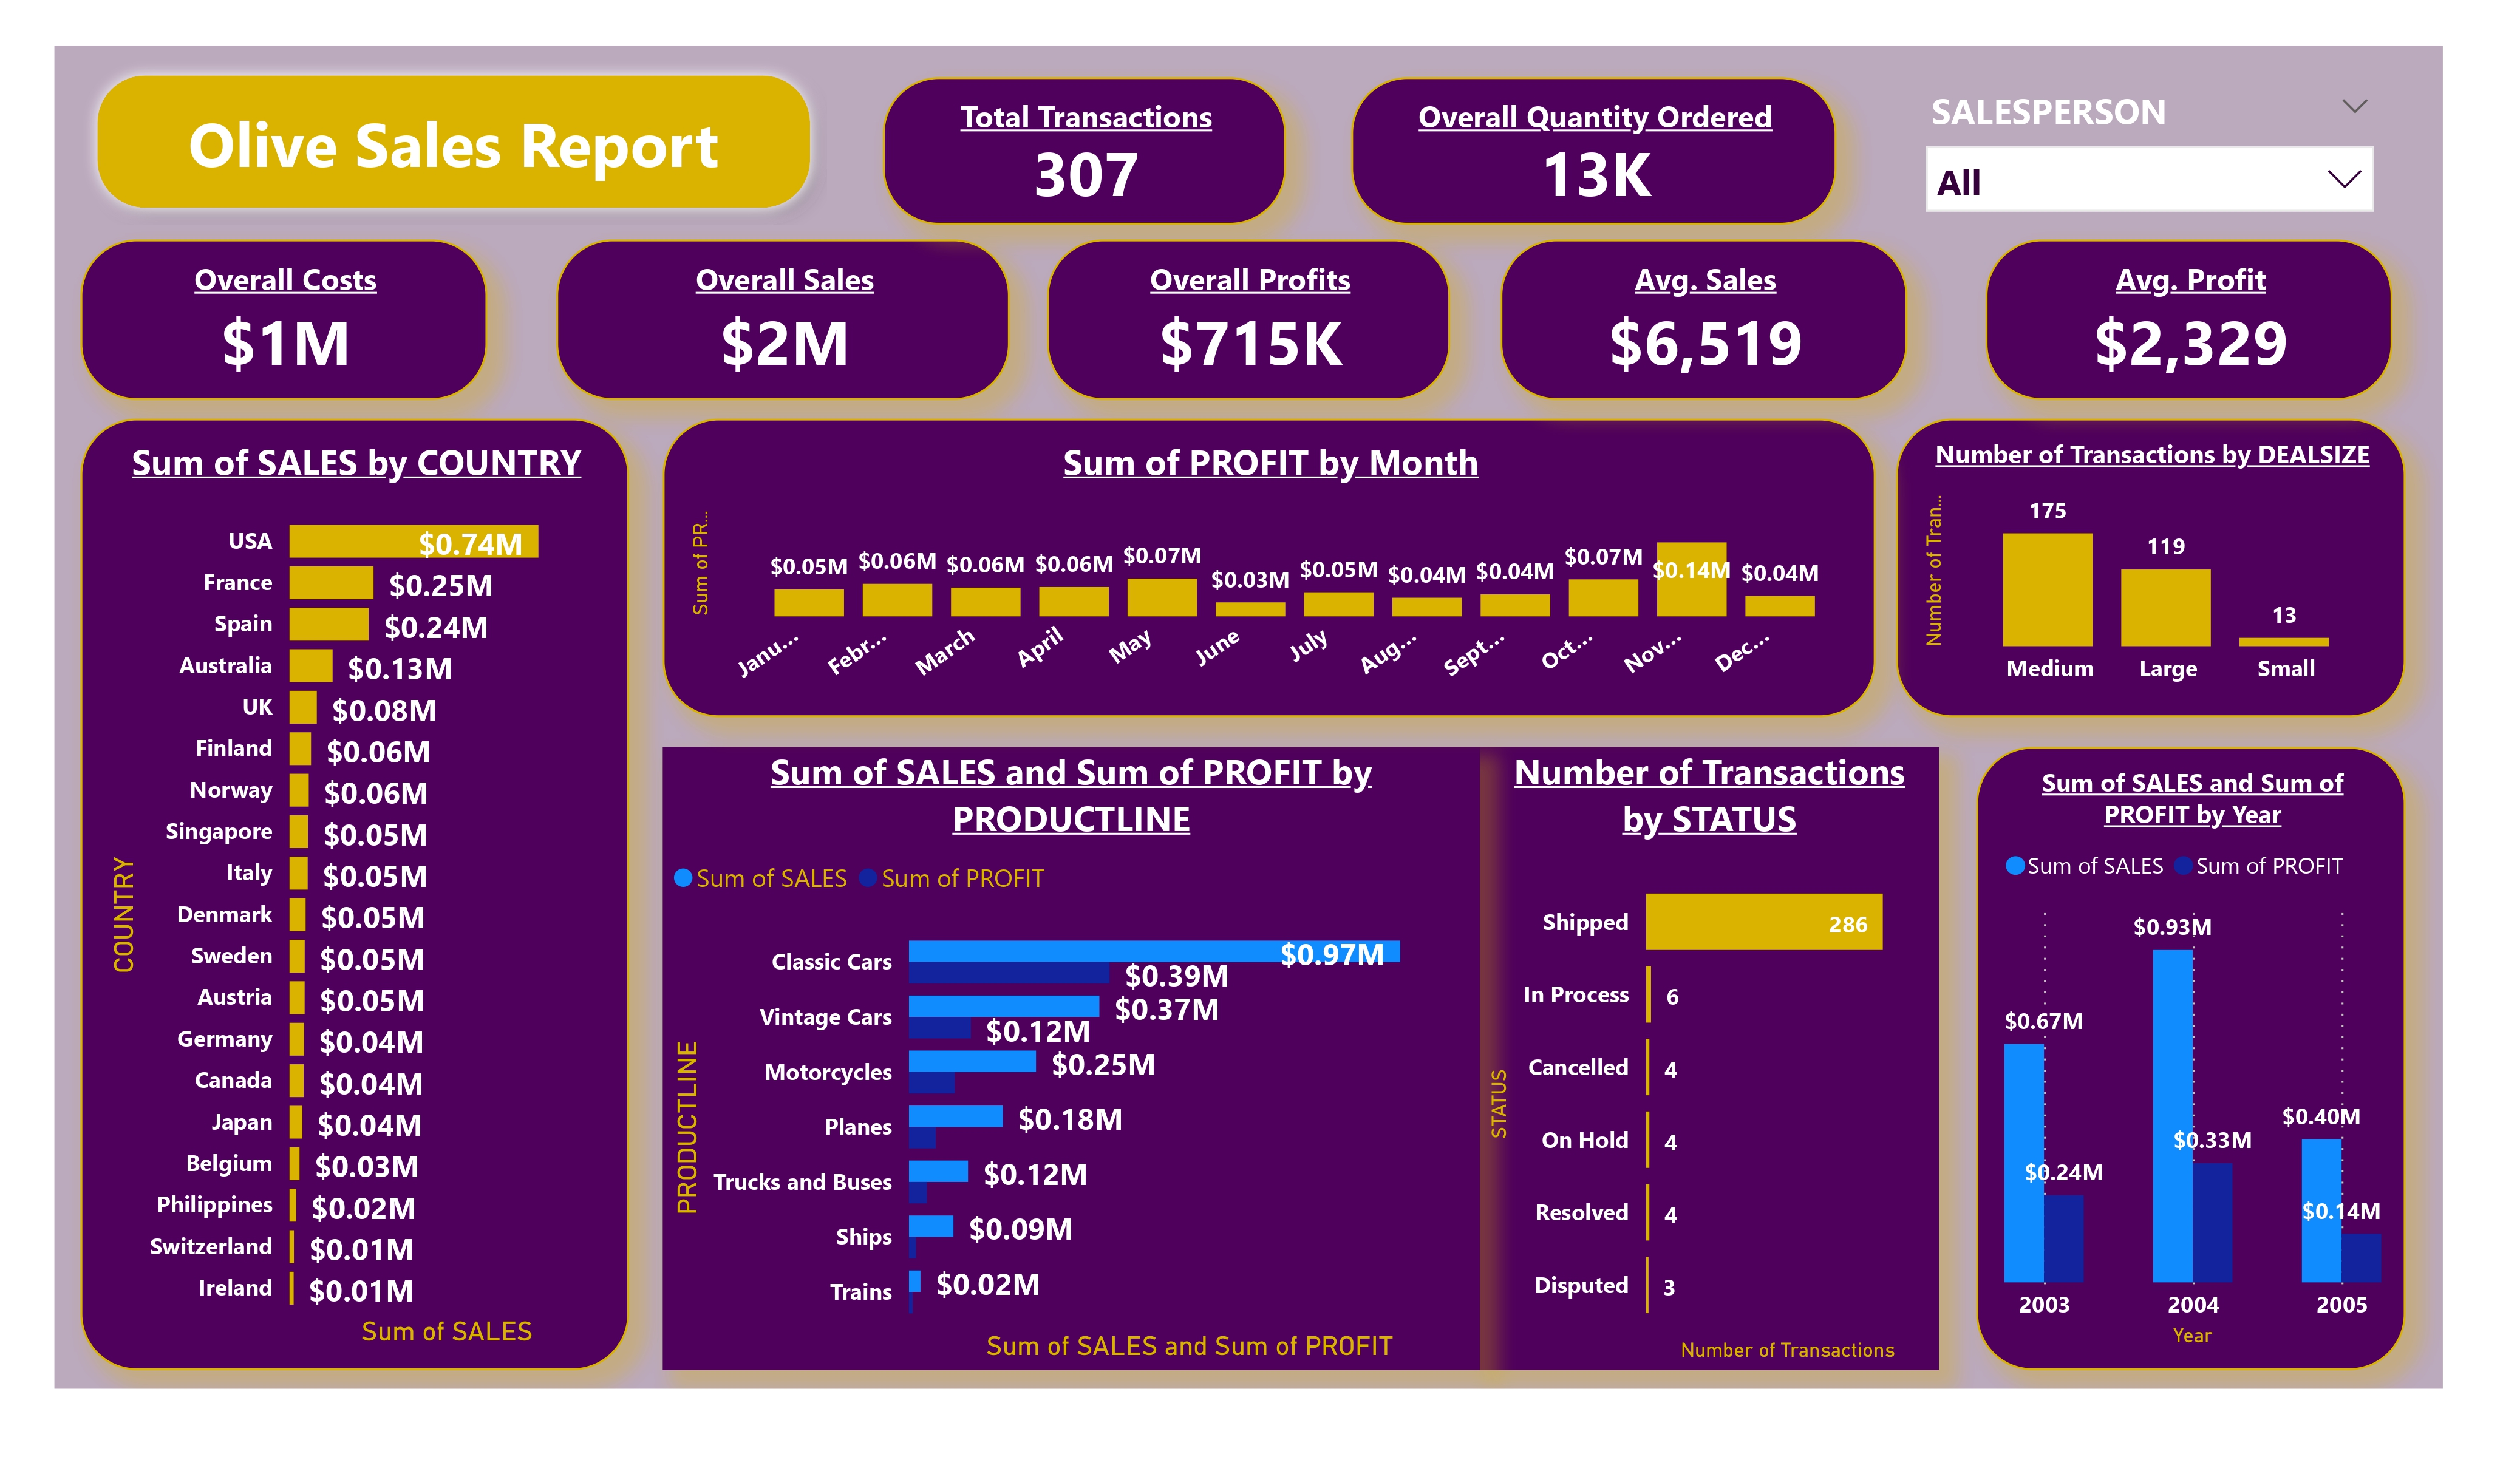

The page's visual inventory and layout, read from the dashboard file:
{"tool":"powerbi","page":{"name":"Page 1","canvas":[1280,720],"ordinal":0},"visuals":[{"type":"shape","box":[14.1,7,399.5,88.6],"z":0},{"type":"card","title":"Overall Quantity Ordered","fields":{"Values":["Sum(data.QUANTITYORDERED)"]},"box":[694.9,16.9,260.2,78.8],"z":1000},{"type":"card","title":"Overall Sales","fields":{"Values":["Sum(data.SALES)"]},"box":[268.7,104.1,243.3,85.8],"z":2000},{"type":"clusteredBarChart","fields":{"Category":["data.STATUS"],"Y":["data.Number of Transactions"]},"box":[763.8,375.6,246.2,334.8],"z":3000},{"type":"card","title":"Total Transactions","fields":{"Values":["data.Number of Transactions"]},"box":[444.5,16.9,215.2,78.8],"z":4000},{"type":"card","title":"Overall Profits","fields":{"Values":["Sum(data.PROFIT)"]},"box":[531.7,104.1,216.6,85.8],"z":5000},{"type":"clusteredBarChart","fields":{"Category":["data.PRODUCTLINE"],"Y":["Sum(data.SALES)","Sum(data.PROFIT)"]},"box":[326.3,375.6,437.5,334.8],"z":6000},{"type":"card","title":"Overall Costs","fields":{"Values":["Sum(data.COSTS)"]},"box":[14.1,104.1,218,85.8],"z":7000},{"type":"clusteredColumnChart","fields":{"Category":["data.DEALSIZE"],"Y":["data.Number of Transactions"]},"box":[987.4,199.7,272.9,160.4],"z":8000},{"type":"clusteredColumnChart","fields":{"Y":["Sum(data.PROFIT)"],"Category":["data.ORDERDATE.Variation.Date Hierarchy.Month"]},"box":[326.3,199.7,649.8,160.4],"z":9000},{"type":"slicer","fields":{"Values":["data.SALESPERSON"]},"box":[993.1,16.9,260.2,78.8],"z":10000},{"type":"card","title":"Avg. Profit","fields":{"Values":["data.Avg Profit"]},"box":[1035.3,104.1,218,85.8],"z":11000},{"type":"card","title":"Avg. Sales","fields":{"Values":["data.Avg Sale"]},"box":[775,104.1,218,85.8],"z":12000},{"type":"clusteredBarChart","fields":{"Y":["Sum(data.SALES)"],"Category":["data.COUNTRY"]},"box":[14.1,199.7,294,510.6],"z":13000},{"type":"clusteredColumnChart","fields":{"Category":["data.ORDERDATE.Variation.Date Hierarchy.Year"],"Y":["Sum(data.SALES)","Sum(data.PROFIT)"]},"box":[1029.6,375.6,230.7,334.8],"z":14000}]}

Visuals, with their boxes in screenshot pixels (x1, y1, x2, y2):
shape: region(72, 52, 820, 219)
"Overall Quantity Ordered" card: region(1347, 71, 1834, 219)
"Overall Sales" card: region(549, 234, 1005, 395)
clusteredBarChart - data.STATUS x data.Number of Transactions: region(1476, 742, 1938, 1370)
"Total Transactions" card: region(878, 71, 1281, 219)
"Overall Profits" card: region(1041, 234, 1447, 395)
clusteredBarChart - data.PRODUCTLINE x Sum(data.SALES): region(657, 742, 1476, 1370)
"Overall Costs" card: region(72, 234, 480, 395)
clusteredColumnChart - data.DEALSIZE x data.Number of Transactions: region(1895, 413, 2406, 713)
clusteredColumnChart - Sum(data.PROFIT) x data.ORDERDATE.Variation.Date Hierarchy.Month: region(657, 413, 1874, 713)
slicer - data.SALESPERSON: region(1905, 71, 2393, 219)
"Avg. Profit" card: region(1985, 234, 2393, 395)
"Avg. Sales" card: region(1497, 234, 1905, 395)
clusteredBarChart - Sum(data.SALES) x data.COUNTRY: region(72, 413, 623, 1369)
clusteredColumnChart - data.ORDERDATE.Variation.Date Hierarchy.Year x Sum(data.SALES): region(1974, 742, 2406, 1370)
